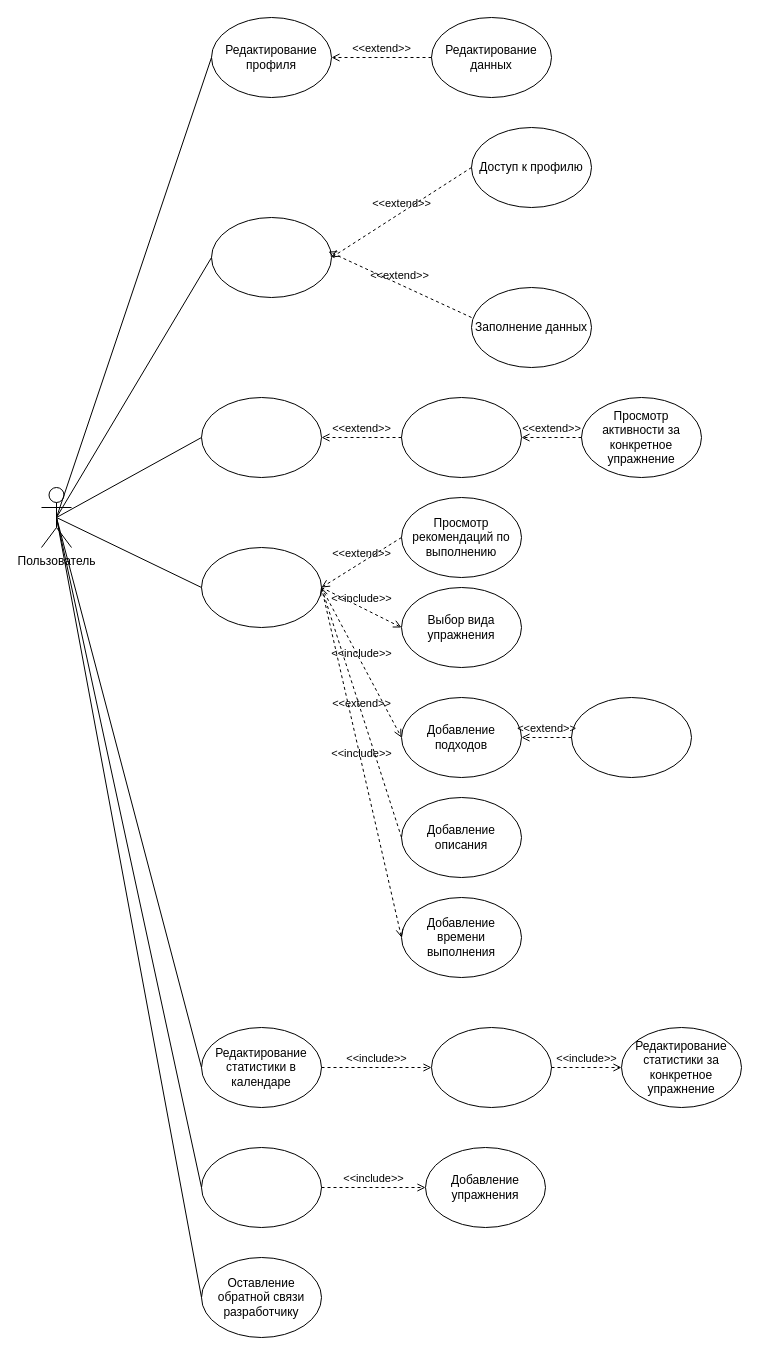
Image size: 759x1355. Some labels were removed from this diagram. The shapes that lost their labels are listed below. From the top down, each one's centre as x and y in pixels, then its label:
At point (271, 257): "Создание профиля в начале работы".
At point (261, 437): "Просмотр статистики в календаре".
At point (461, 437): "Просмотр статистики за конкретный день".
At point (261, 587): "Добавление упражнения в текущий день".
At point (631, 737): "Добавление повторов".
At point (491, 1067): "Редактирование статистики за конкретный день".
At point (261, 1187): "Планирование активности на последующий день".
